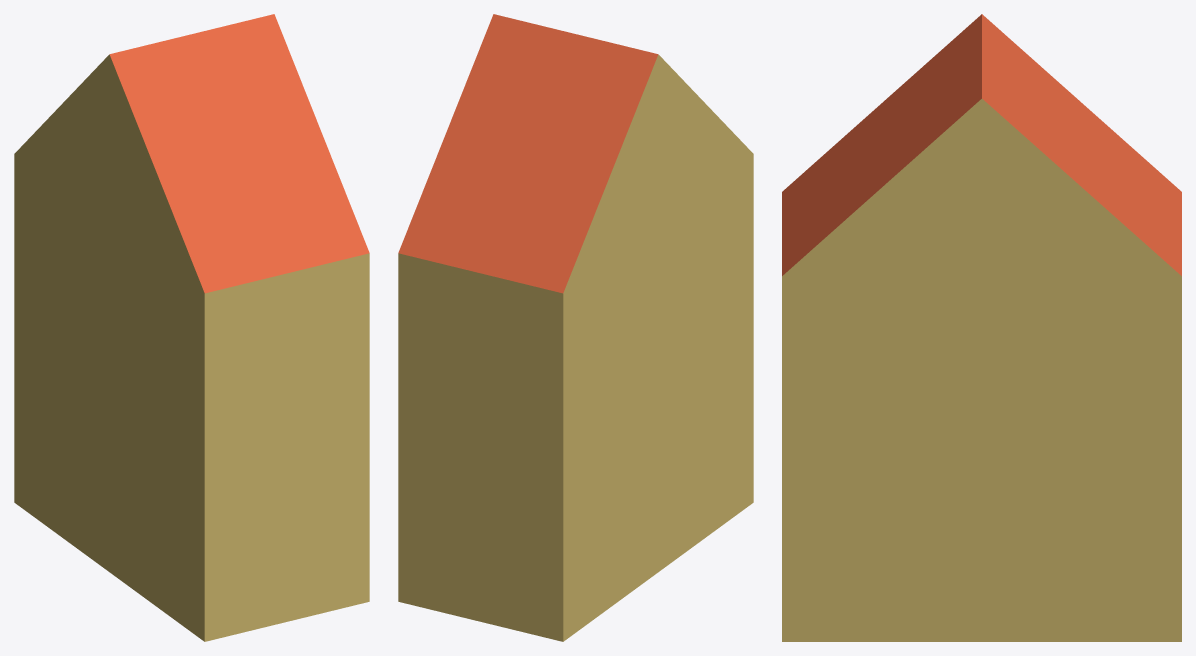
Rendered from house.glb.
3 views of the same model, side by side, from view 1: azimuth 30°, elevation 25°; view 2: azimuth 150°, elevation 25°; view 3: azimuth 270°, elevation 25° (orthographic). The views are drawn at different scales.
Parts seen in each view (by area): view 1: Cube; view 2: Cube; view 3: Cube.
Part boxes in pixels (x1,y1,x2,y2): Cube: [14, 14, 369, 641]; Cube: [398, 14, 753, 641]; Cube: [782, 14, 1181, 641].
Bounding box in the file's own units: 5 × 15 × 10.
